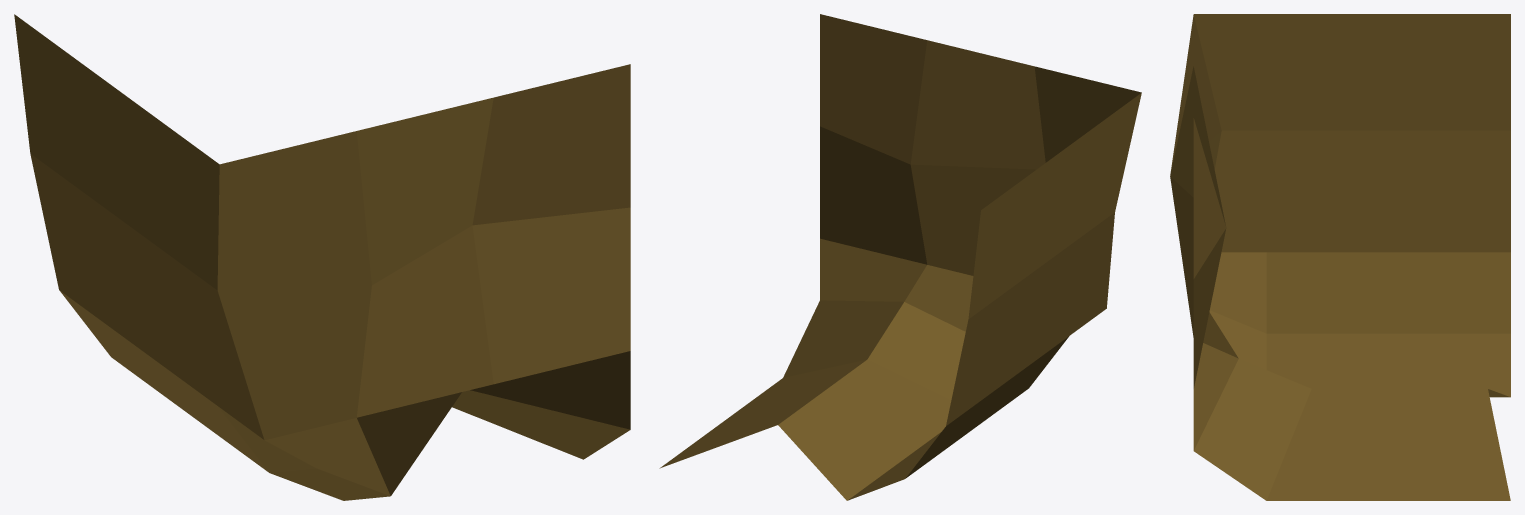
File: Platformer_LD.fbx
The picture shows the model from 3 angles, left to right: view 1: azimuth 30°, elevation 25°; view 2: azimuth 150°, elevation 25°; view 3: azimuth 270°, elevation 25°; orthographic projection. The views are drawn at different scales.
Visible parts, largest first — view 1: Platformer_LD; view 2: Platformer_LD; view 3: Platformer_LD.
Boxes of the visible parts, x1,y1,x2,y2 form: Platformer_LD: (14, 14, 630, 500); Platformer_LD: (659, 14, 1141, 500); Platformer_LD: (1170, 14, 1510, 500).
Size of the model in its own units: 200 by 200 by 186.
